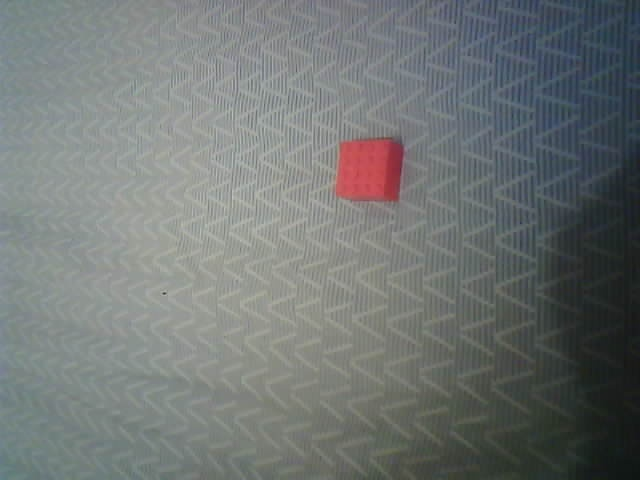lego: (334, 138, 403, 203)
